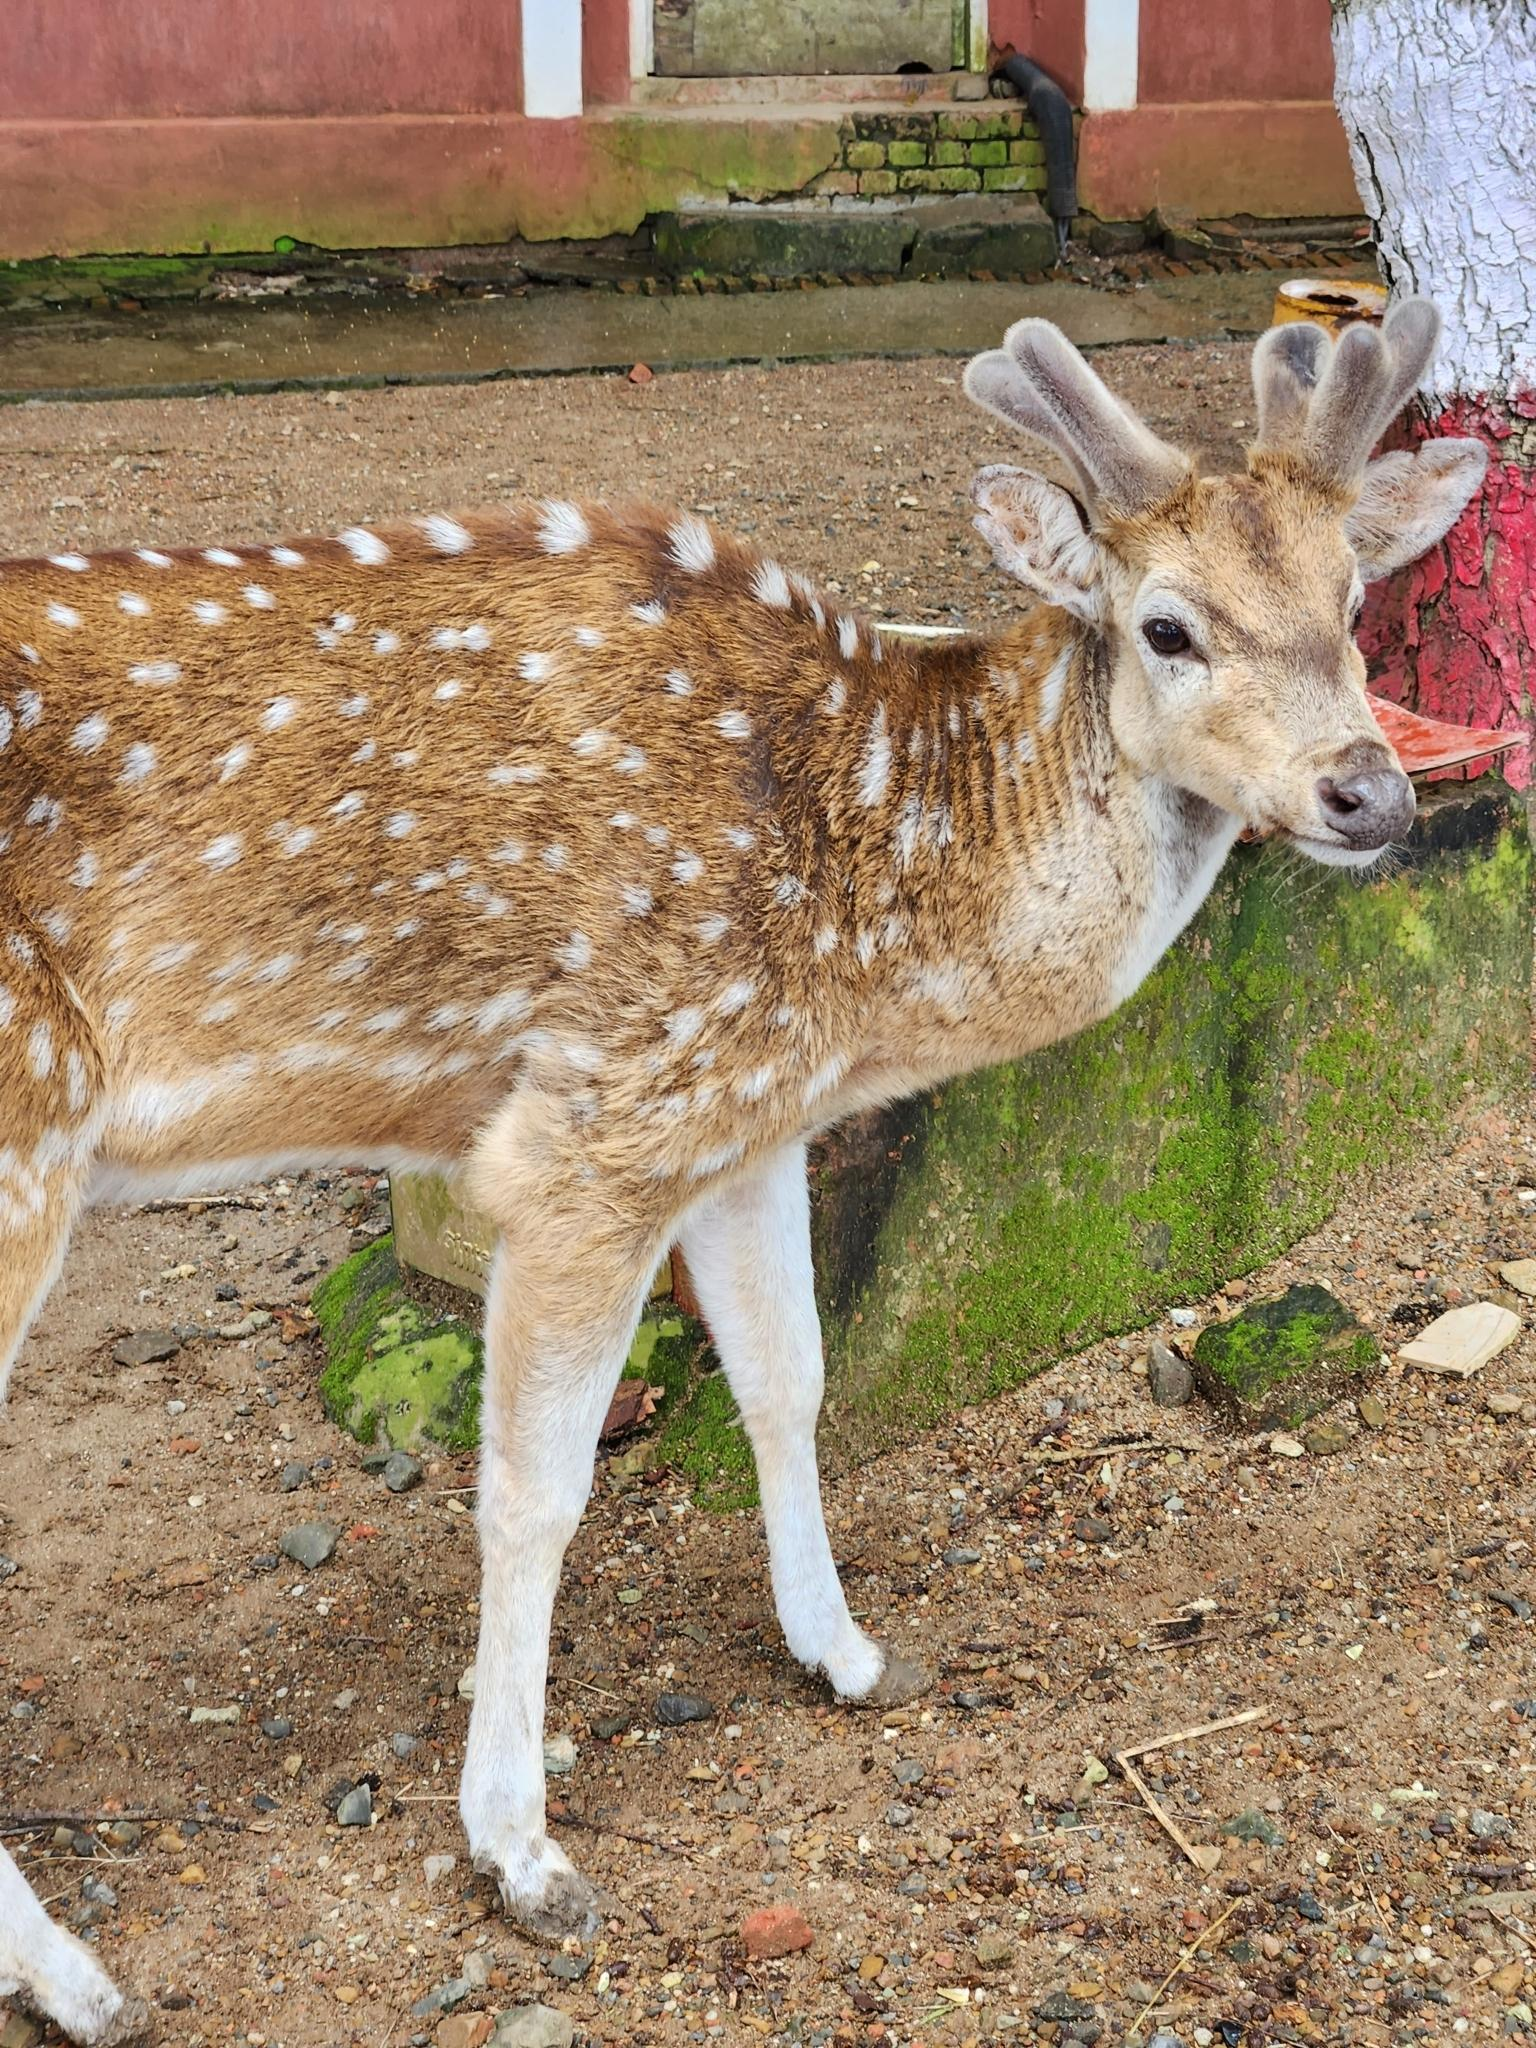Deer: (0, 298, 1485, 1921)
